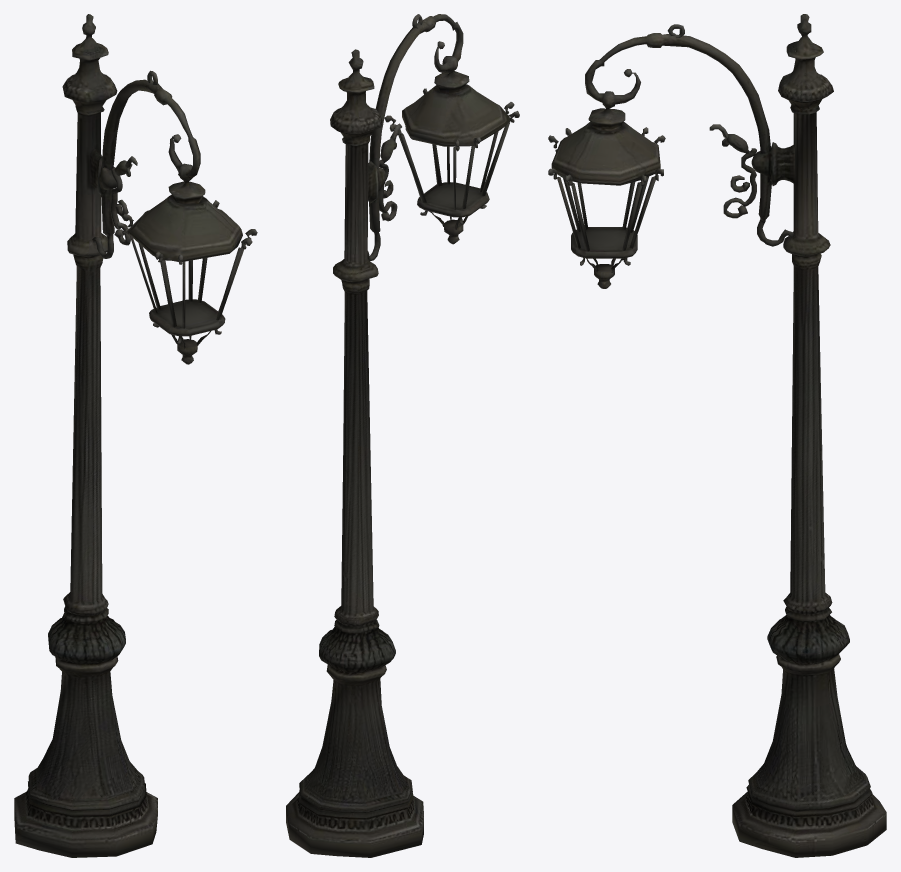
The model's file is street_lamp.glb.
The picture shows the model from 3 angles, left to right: view 1: azimuth 30°, elevation 25°; view 2: azimuth 150°, elevation 25°; view 3: azimuth 270°, elevation 25°; orthographic projection. The views are drawn at different scales.
Parts seen in each view (by area): view 1: tripo_node_d8c15970-6730-4eb6-afea-d43700bc9b98; view 2: tripo_node_d8c15970-6730-4eb6-afea-d43700bc9b98; view 3: tripo_node_d8c15970-6730-4eb6-afea-d43700bc9b98.
Part boxes in pixels (x1,y1,x2,y2): tripo_node_d8c15970-6730-4eb6-afea-d43700bc9b98: [14, 14, 257, 857]; tripo_node_d8c15970-6730-4eb6-afea-d43700bc9b98: [286, 14, 519, 857]; tripo_node_d8c15970-6730-4eb6-afea-d43700bc9b98: [548, 14, 886, 857].
Size of the model in its own units: 0.1738 by 0.998 by 0.377.
1 material, 1 textured.
